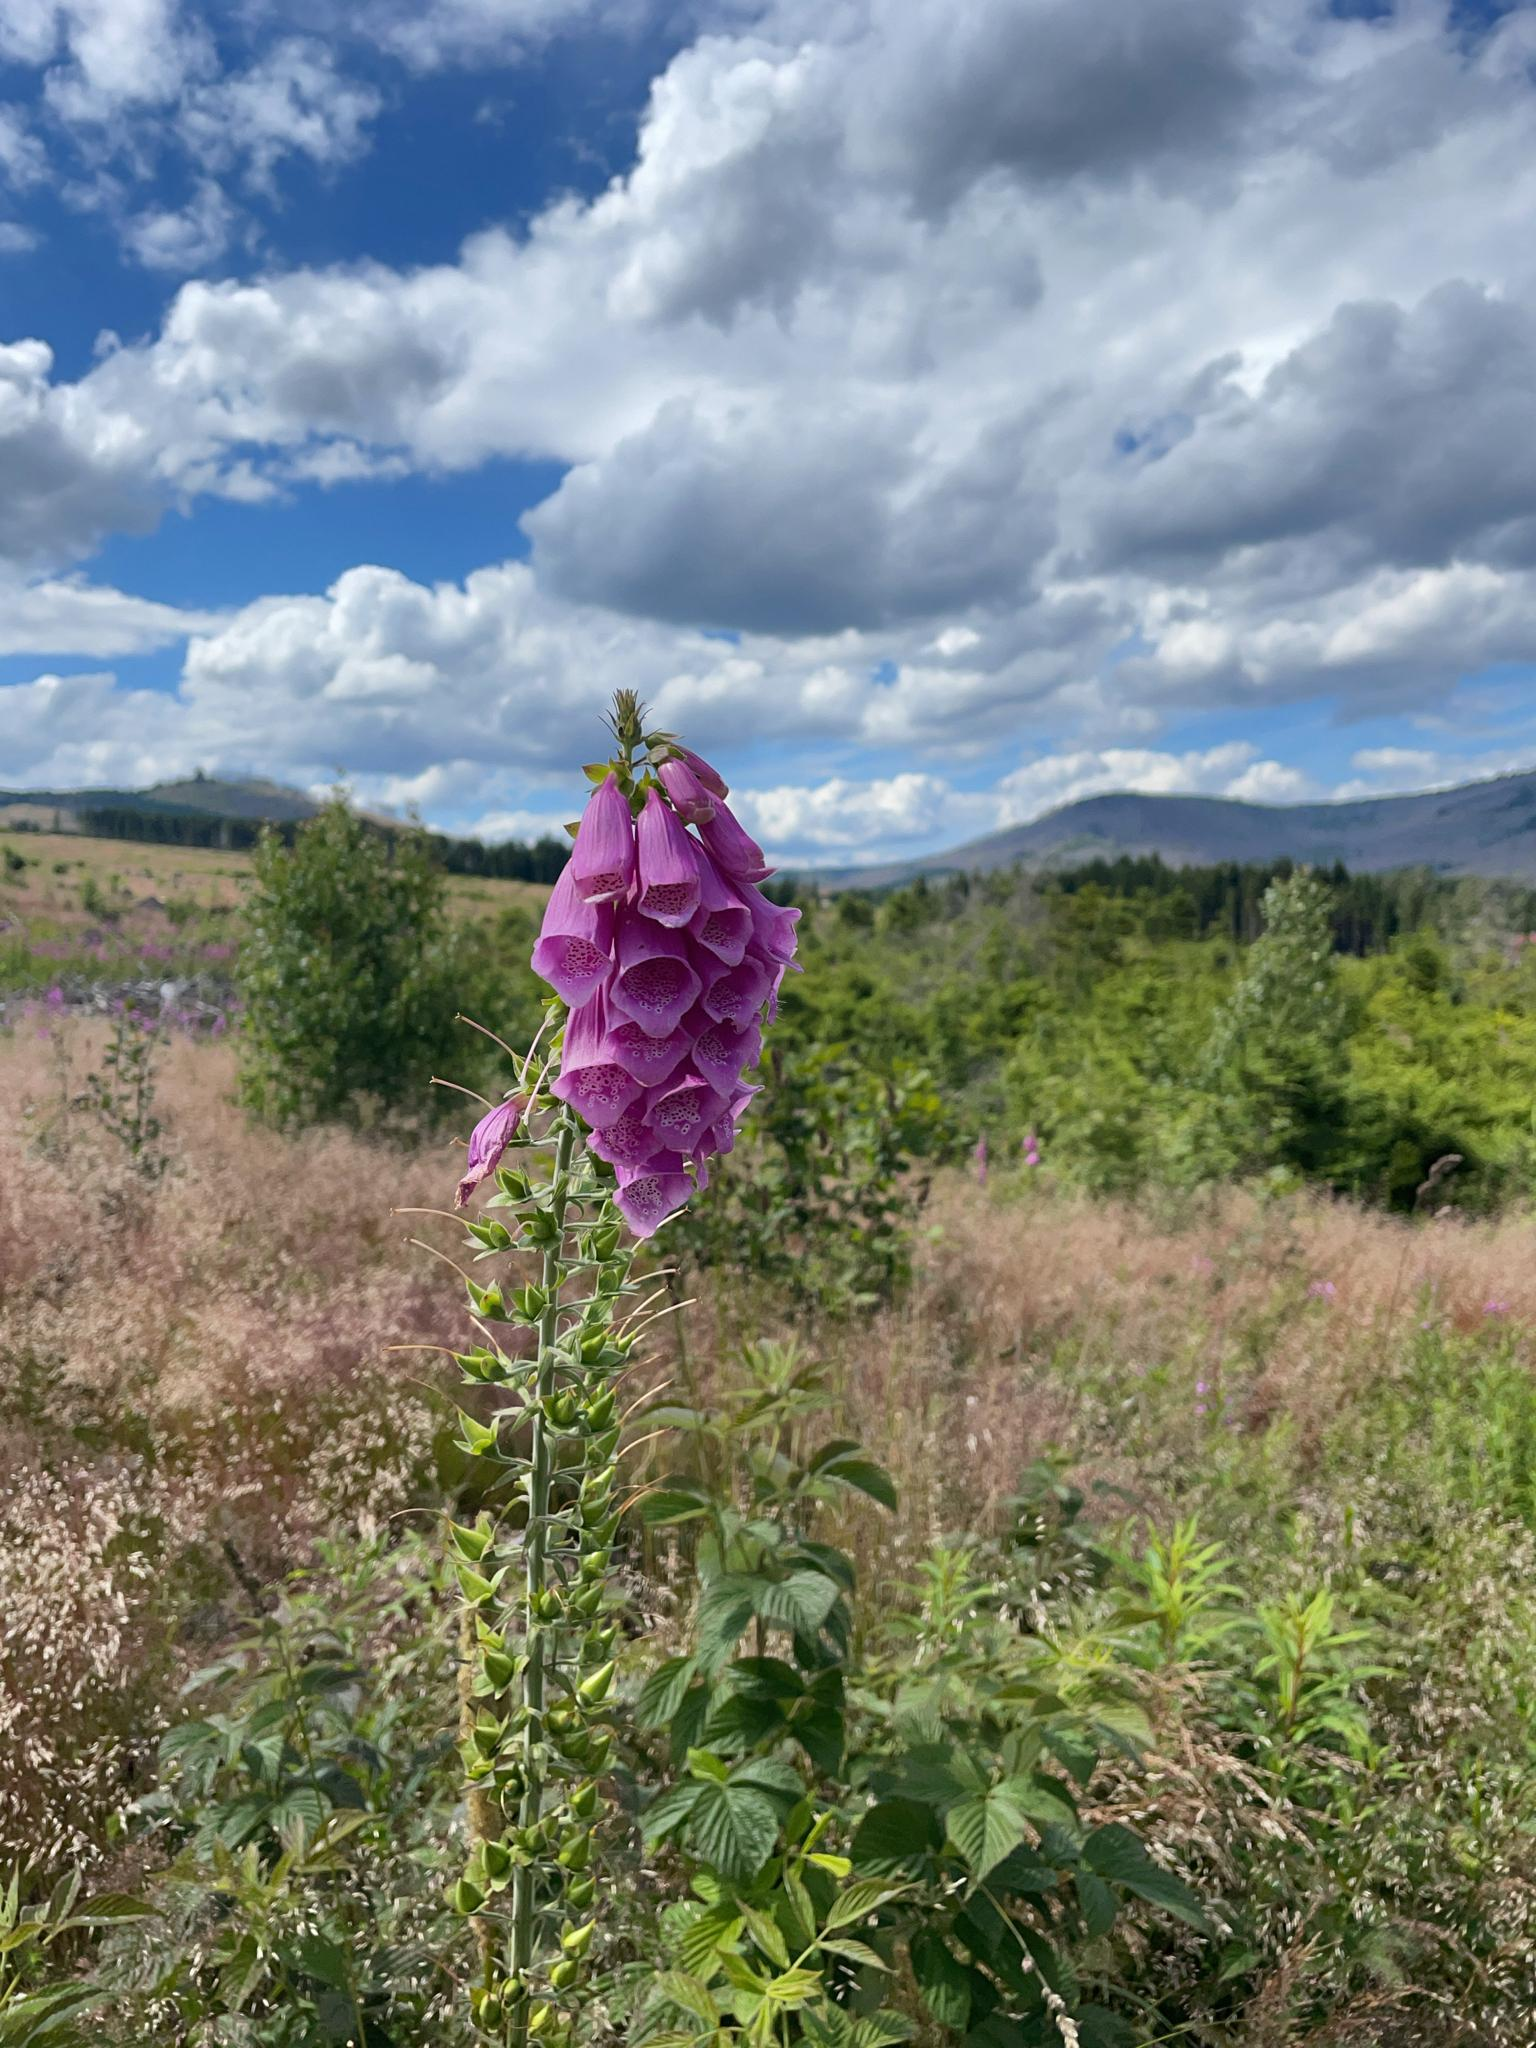Digitalis L: (360, 674, 802, 2046)
